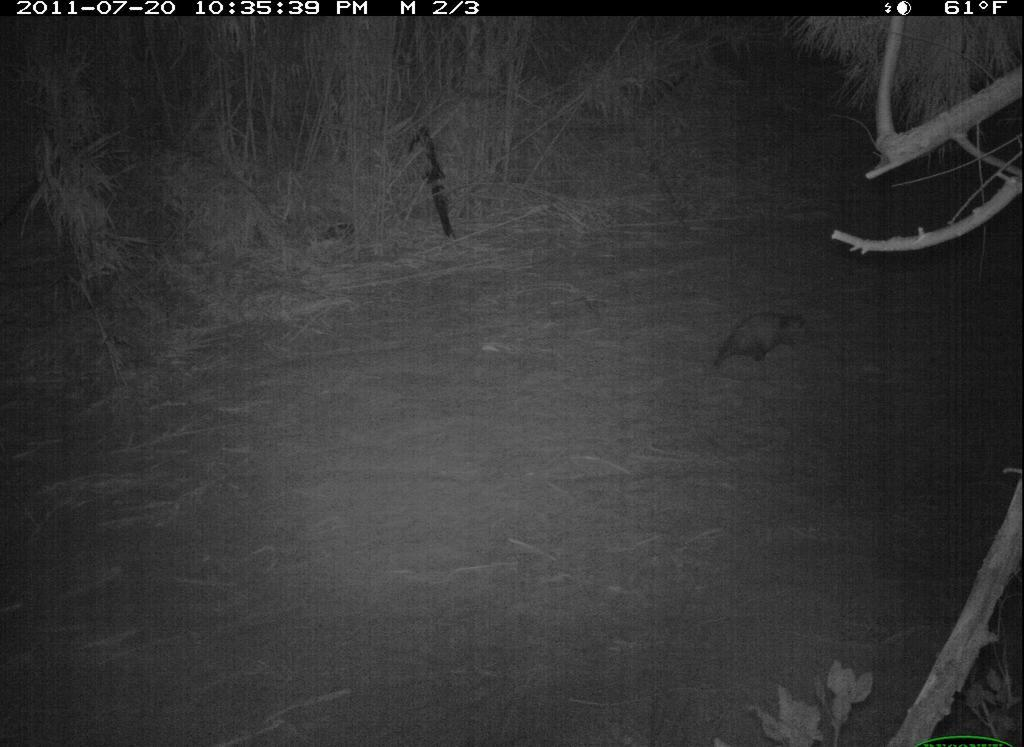opossum: (702, 308, 817, 374)
